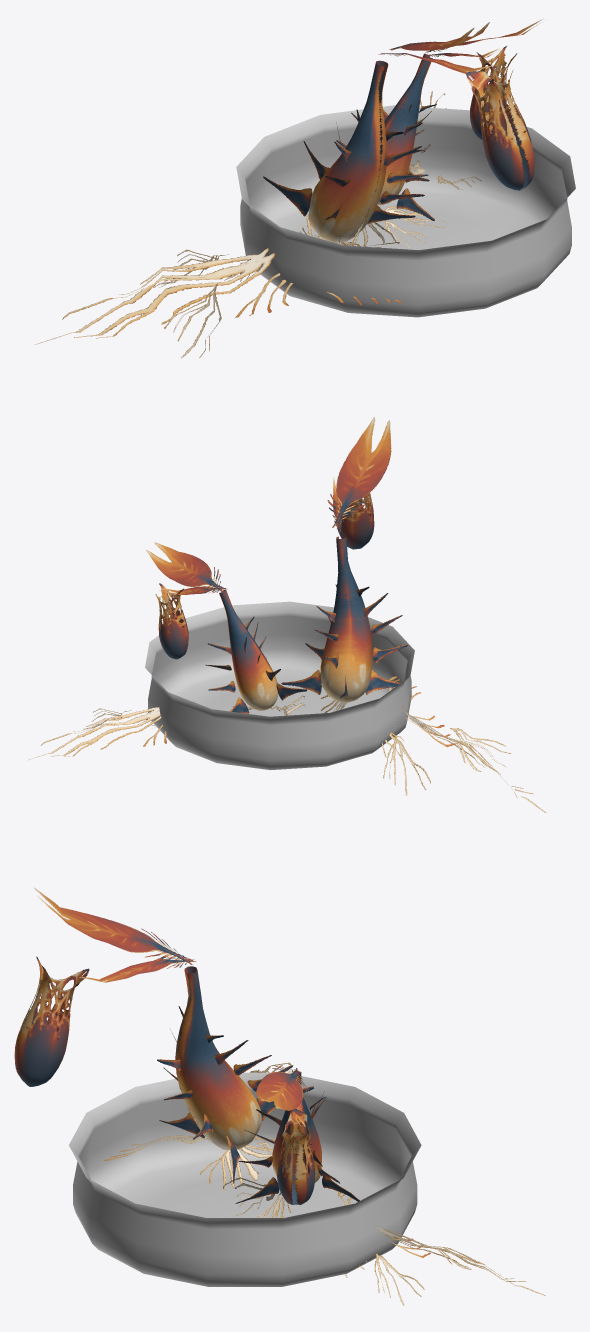
3 views of the same model, one above another, from view 1: azimuth 30°, elevation 25°; view 2: azimuth 150°, elevation 25°; view 3: azimuth 270°, elevation 25° (orthographic). The views are drawn at different scales.
Parts seen in each view (by area): view 1: A04.002; view 2: A04.002; view 3: A04.002.
Part boxes in pixels (x1=…): A04.002: x1=35, y1=19, x2=575, y2=358; A04.002: x1=27, y1=417, x2=545, y2=812; A04.002: x1=14, y1=887, x2=545, y2=1305.
Bounding box in the file's own units: 1407 × 833 × 1165.
